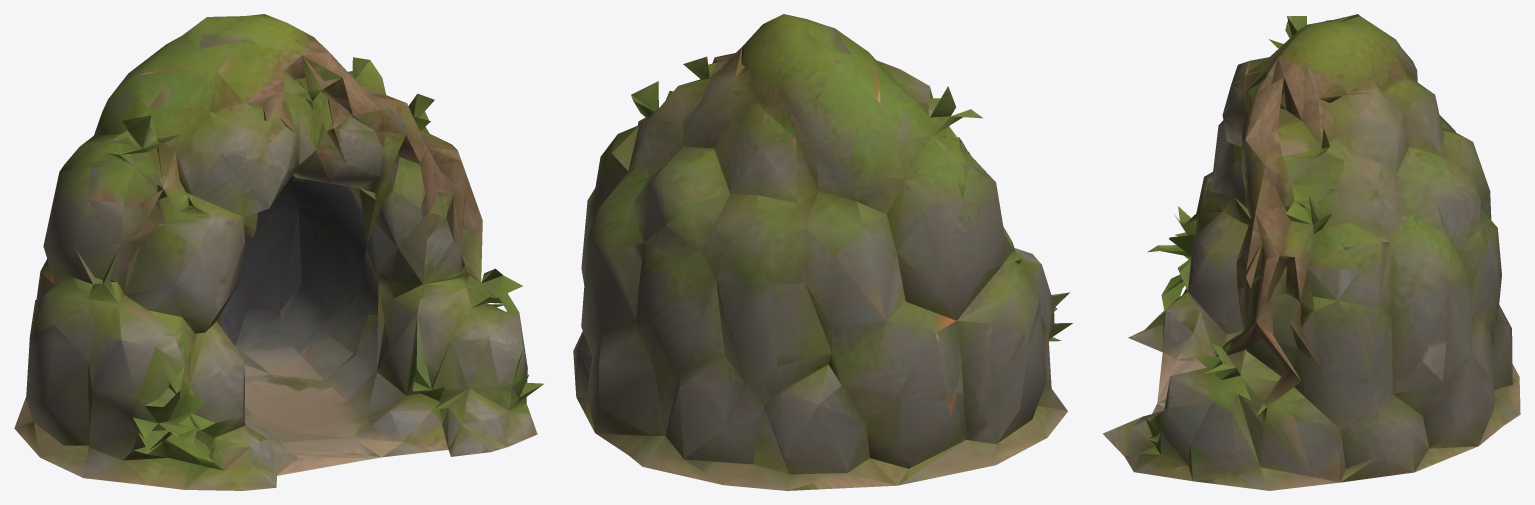
File: boca_cueva_1500.glb
3 renders of one model, left to right at view 1: azimuth 30°, elevation 25°; view 2: azimuth 150°, elevation 25°; view 3: azimuth 270°, elevation 25°, orthographic. The views are drawn at different scales.
Parts seen in each view (by area): view 1: boca_cueva_malla; view 2: boca_cueva_malla; view 3: boca_cueva_malla.
Boxes of the visible parts, box(x1,y1,x2,y2) form: boca_cueva_malla: box(14, 14, 543, 490); boca_cueva_malla: box(573, 14, 1072, 490); boca_cueva_malla: box(1103, 14, 1520, 490).
Bounding box in the file's own units: 0.571 × 0.4695 × 0.4882.
1 material, 1 textured.
